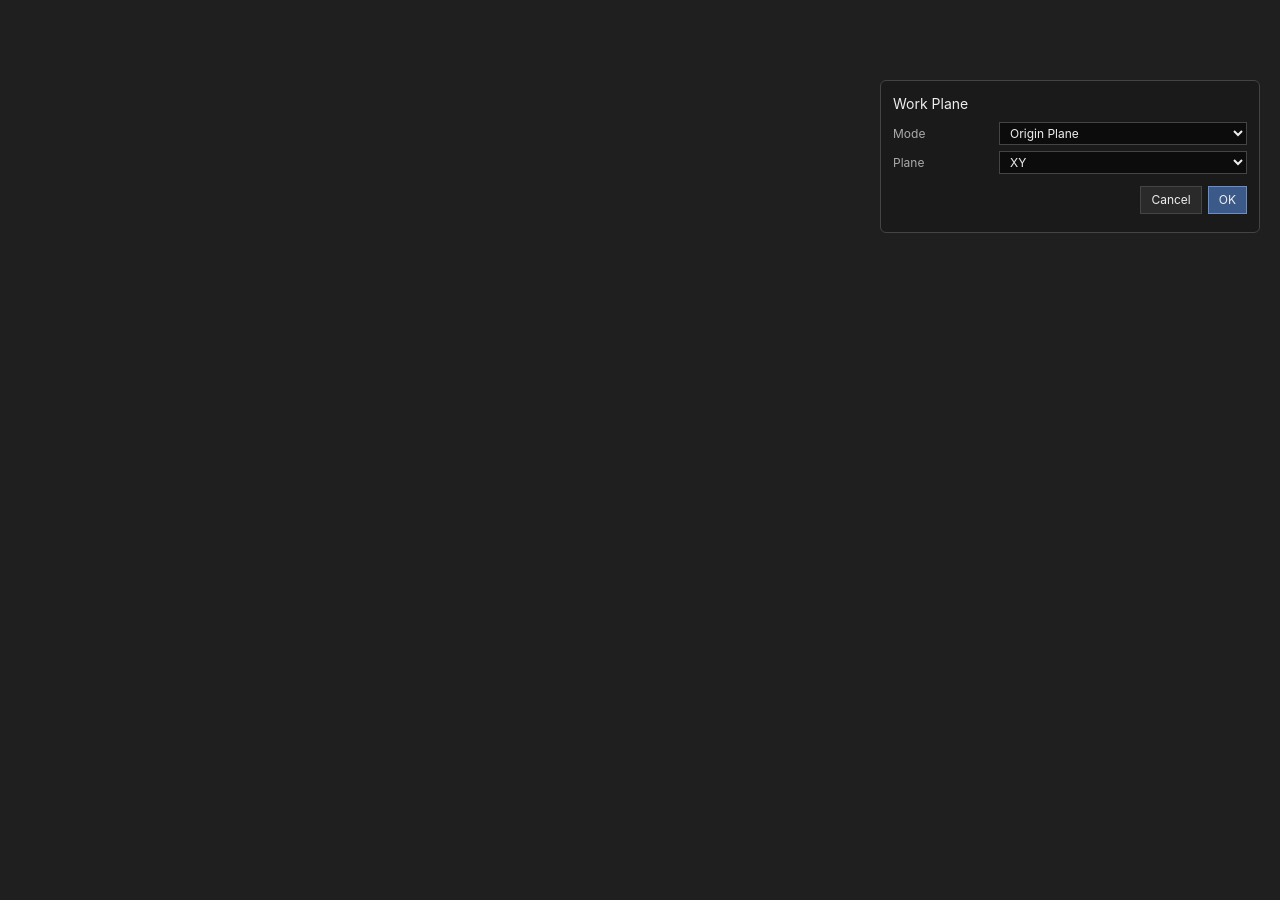
WorkPlaneDialog › Pick… buttons › mismatched role result is ignored
Select "Offset from Plane" in the dropdown labelled "Mode" at (1123, 134), box [999,122,1247,145]
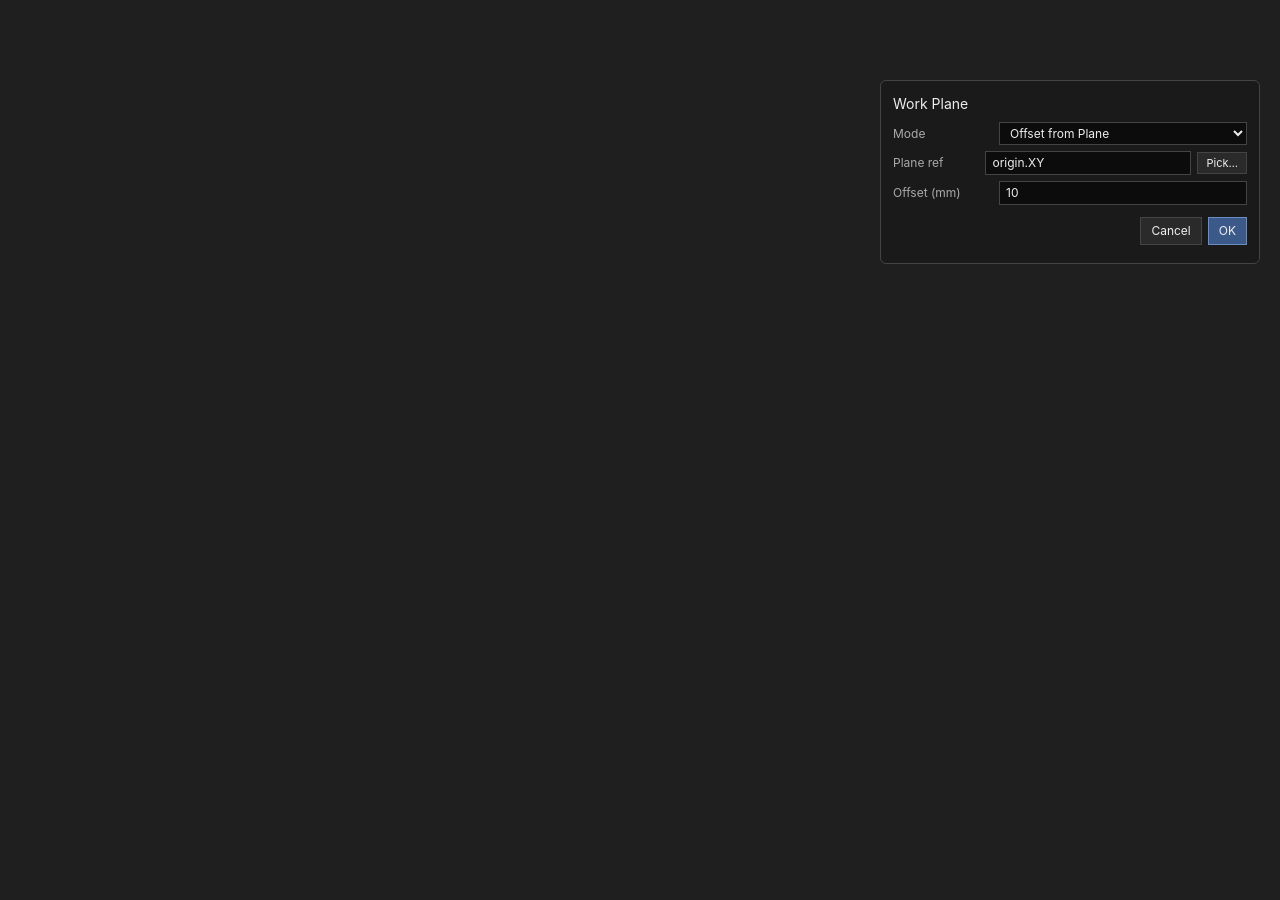
Check: the field named "plane ref" holds "origin.XY", box [986,151,1192,175]
